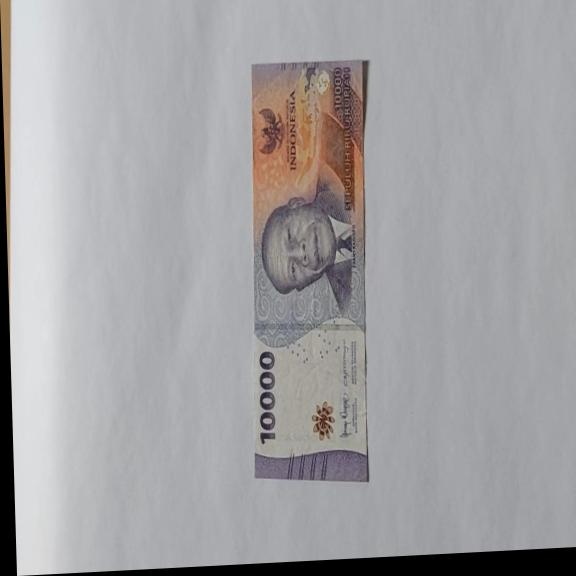Kertas: (242, 56, 378, 488)
